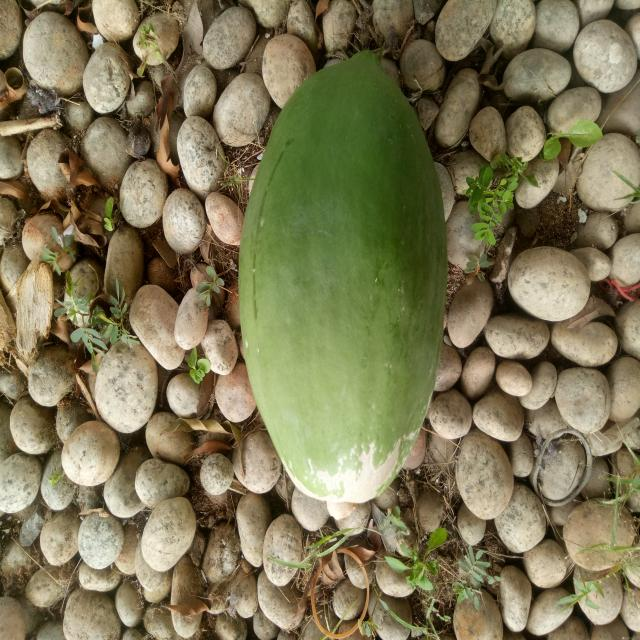Pepaya unrippen: (240, 43, 447, 505)
